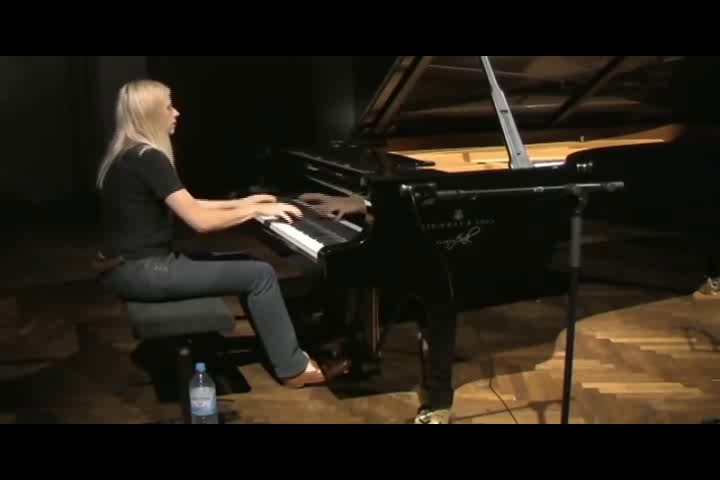keyboard: (228, 184, 363, 262)
